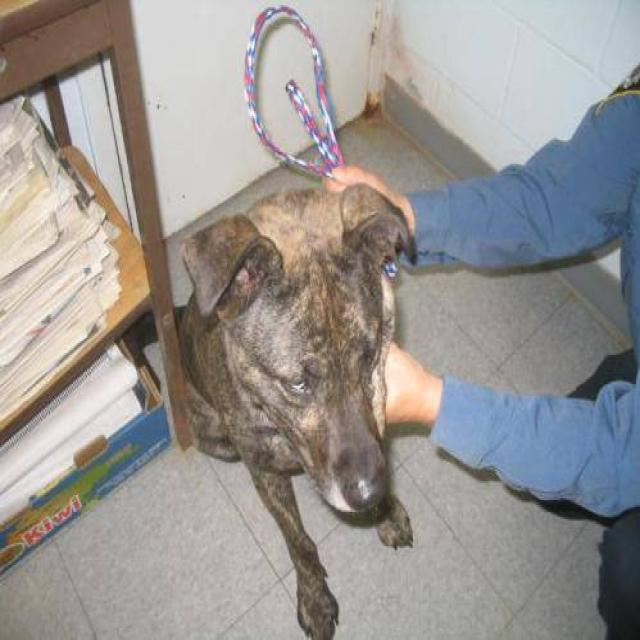dog: (176, 181, 418, 638)
